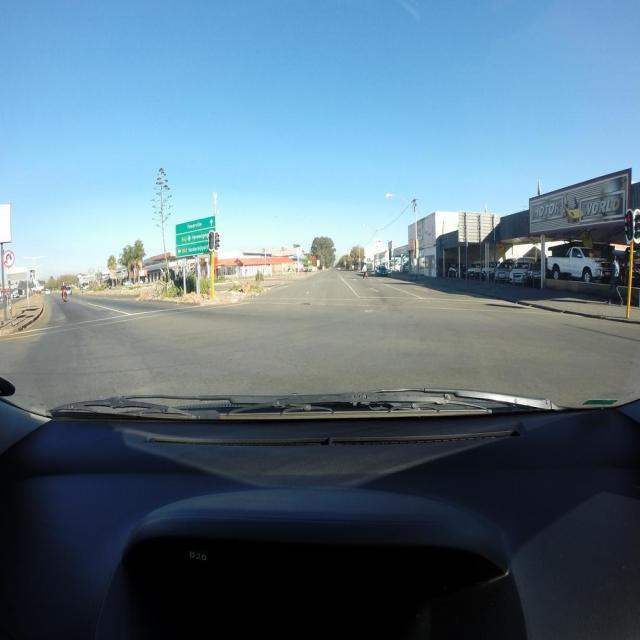Pothole: (300, 302, 310, 306)
